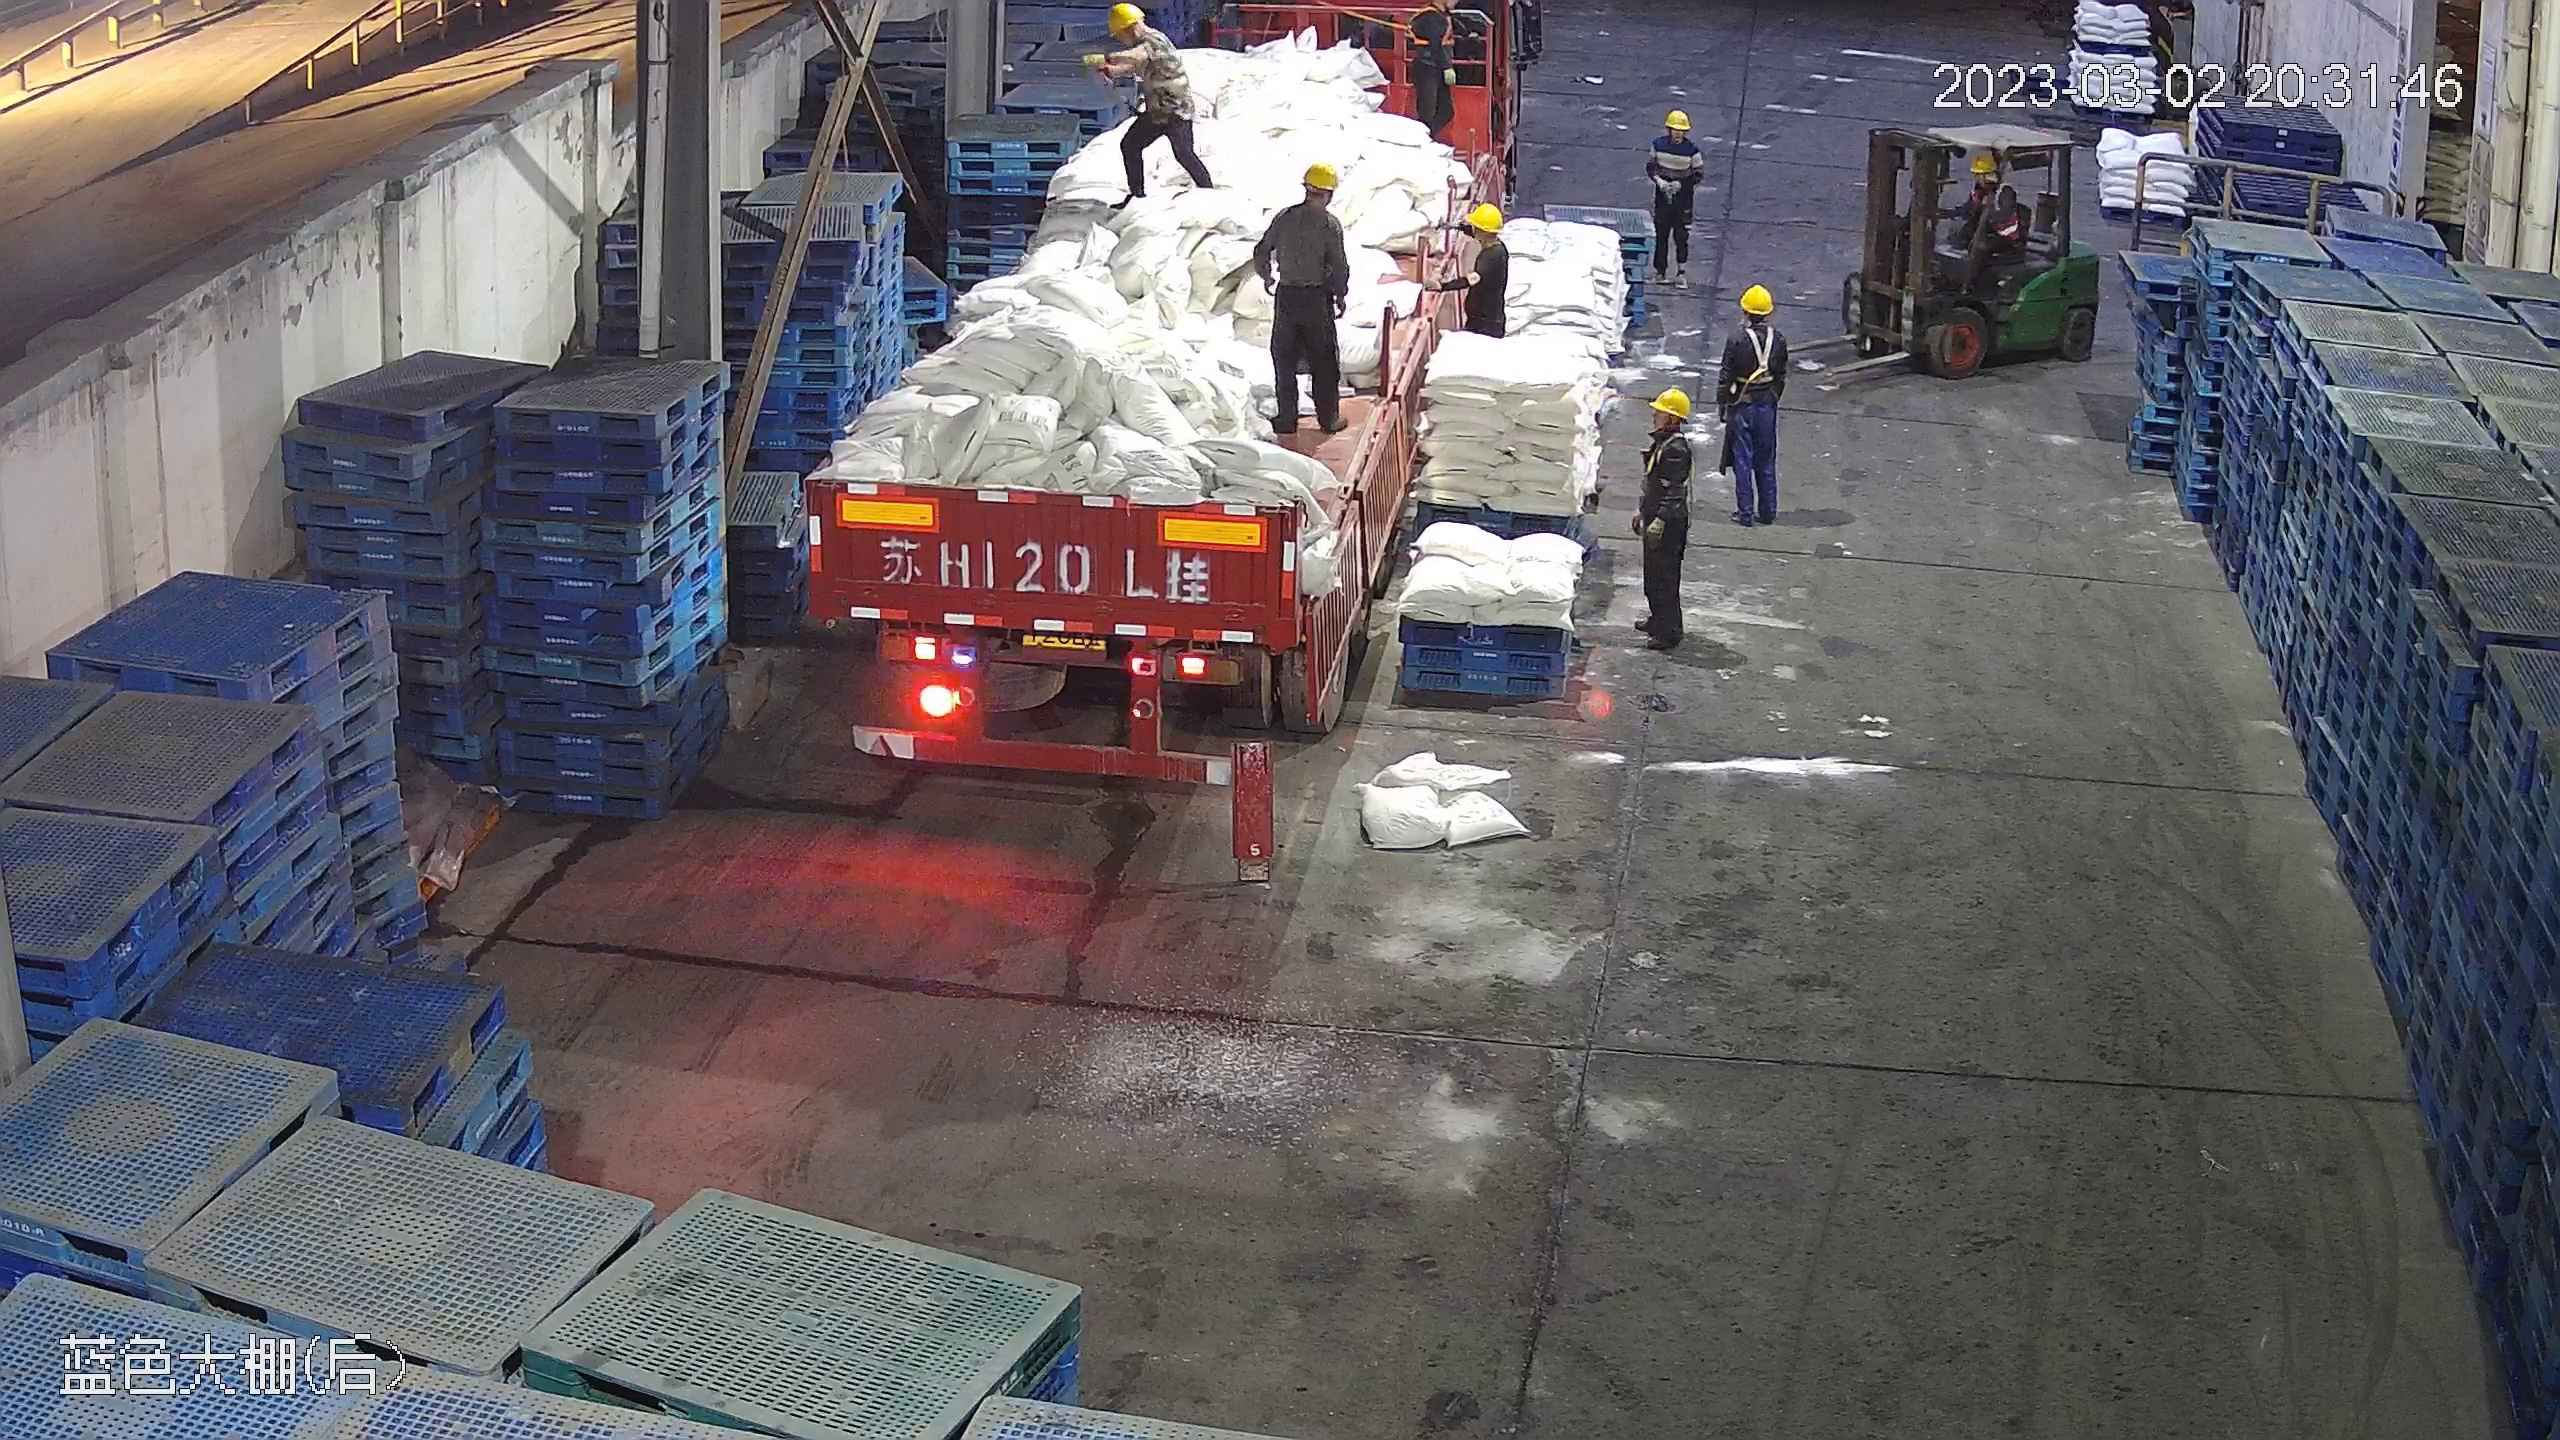belt: (1728, 325, 1786, 390), (1128, 34, 1186, 87), (1651, 428, 1696, 484), (1405, 11, 1458, 48)
head: (1267, 158, 1347, 244), (1722, 284, 1788, 357), (1642, 386, 1700, 468), (1098, 4, 1170, 68), (1455, 200, 1510, 272), (1961, 149, 2015, 211), (1650, 107, 1703, 162)
helmet: (1298, 158, 1341, 190), (1652, 386, 1695, 416), (1464, 199, 1503, 231), (1108, 2, 1143, 33), (1739, 282, 1774, 310), (1970, 148, 2001, 171), (1662, 108, 1693, 130)
people: (1230, 155, 1353, 439), (1077, 1, 1213, 207), (1709, 278, 1791, 532), (1634, 382, 1702, 660), (1642, 106, 1709, 284), (1446, 196, 1510, 346)
truck: (800, 15, 1469, 776)
